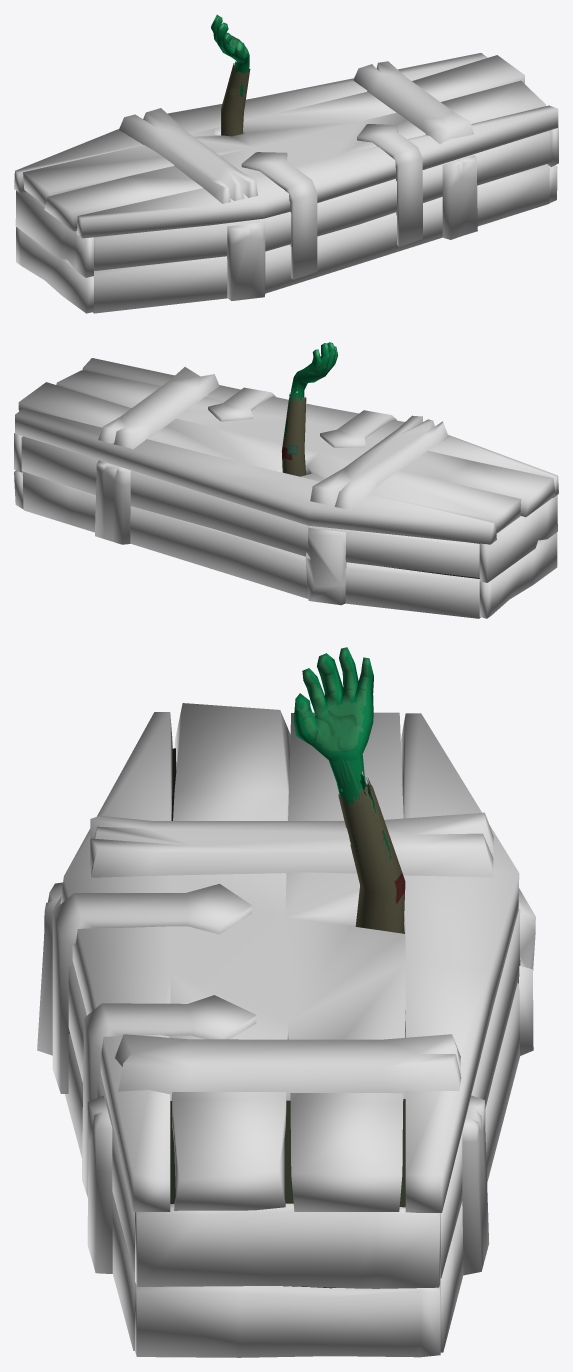
3 renders of one model, top to bottom at view 1: azimuth 30°, elevation 25°; view 2: azimuth 150°, elevation 25°; view 3: azimuth 270°, elevation 25°, orthographic. The views are drawn at different scales.
Visible parts, largest first — view 1: Cube_low_Cube.056, Cube.004_low_Cube.051, Cube.003_low_Cube.050, Cube.005_low_Cube.052, Cube.007_low_Cube.054, Cube.008_low_Cube.055, Cube.001_low_Cube.048, Cube.002_low_Cube.049, arm.001_Cylinder.004, Cube.006_low_Cube.053; view 2: Cube_low_Cube.056, Cube.004_low_Cube.051, Cube.005_low_Cube.052, Cube.007_low_Cube.054, Cube.008_low_Cube.055, arm.001_Cylinder.004, Cube.001_low_Cube.048, Cube.003_low_Cube.050, Cube.002_low_Cube.049, Cube.006_low_Cube.053; view 3: Cube_low_Cube.056, Cube.006_low_Cube.053, Cube.007_low_Cube.054, Cube.008_low_Cube.055, Cube.003_low_Cube.050, Cube.004_low_Cube.051, arm.001_Cylinder.004, Cube.002_low_Cube.049, Cube.001_low_Cube.048, void.002_Cube.057.
Part boxes in pixels (<box>): Cube_low_Cube.056: <box>14,53,558,238</box>; Cube.004_low_Cube.051: <box>92,131,551,313</box>; Cube.003_low_Cube.050: <box>241,124,422,279</box>; Cube.005_low_Cube.052: <box>15,191,93,313</box>; Cube.007_low_Cube.054: <box>119,108,257,203</box>; Cube.008_low_Cube.055: <box>353,61,474,143</box>; Cube.001_low_Cube.048: <box>227,221,265,300</box>; Cube.002_low_Cube.049: <box>442,155,477,239</box>; arm.001_Cylinder.004: <box>211,14,250,136</box>; Cube.006_low_Cube.053: <box>547,127,558,203</box>; Cube_low_Cube.056: <box>15,358,558,544</box>; Cube.004_low_Cube.051: <box>21,436,480,618</box>; Cube.005_low_Cube.052: <box>479,495,557,618</box>; Cube.007_low_Cube.054: <box>310,415,448,510</box>; Cube.008_low_Cube.055: <box>98,367,219,449</box>; arm.001_Cylinder.004: <box>281,342,337,476</box>; Cube.001_low_Cube.048: <box>305,527,346,605</box>; Cube.003_low_Cube.050: <box>208,387,396,447</box>; Cube.002_low_Cube.049: <box>95,460,130,544</box>; Cube.006_low_Cube.053: <box>14,433,23,509</box>; Cube_low_Cube.056: <box>60,703,519,1212</box>; Cube.006_low_Cube.053: <box>135,1203,440,1357</box>; Cube.007_low_Cube.054: <box>90,812,493,877</box>; Cube.008_low_Cube.055: <box>115,1034,461,1100</box>; Cube.003_low_Cube.050: <box>52,883,256,1197</box>; Cube.004_low_Cube.051: <box>54,897,520,1352</box>; arm.001_Cylinder.004: <box>294,647,405,933</box>; Cube.002_low_Cube.049: <box>87,1095,489,1275</box>; Cube.001_low_Cube.048: <box>37,882,535,1055</box>; void.002_Cube.057: <box>170,748,405,1288</box>.
Bounding box in the file's own units: 200 × 86.82 × 89.96.
